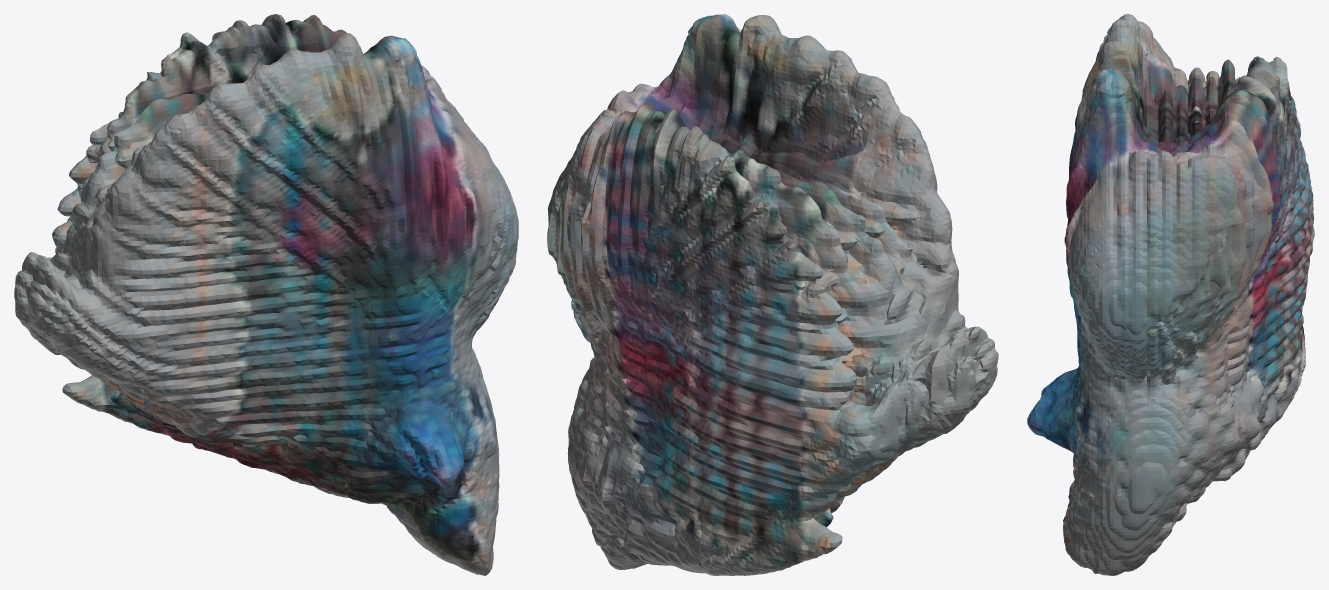
The model's file is betta-splendens.glb.
The picture shows the model from 3 angles, left to right: view 1: azimuth 30°, elevation 25°; view 2: azimuth 150°, elevation 25°; view 3: azimuth 270°, elevation 25°; orthographic projection. The views are drawn at different scales.
Parts seen in each view (by area): view 1: world; view 2: world; view 3: world.
Boxes of the visible parts, box(x1,y1,x2,y2) form: world: box(14, 14, 518, 575); world: box(547, 14, 998, 575); world: box(1027, 14, 1314, 575).
Bounding box in the file's own units: 0.7977 × 0.9774 × 0.5297.
